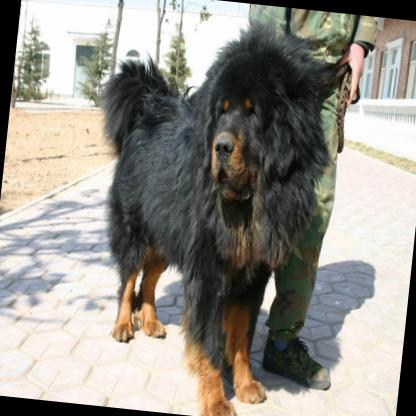Tibetan_mastiff: (64, 0, 339, 416)
